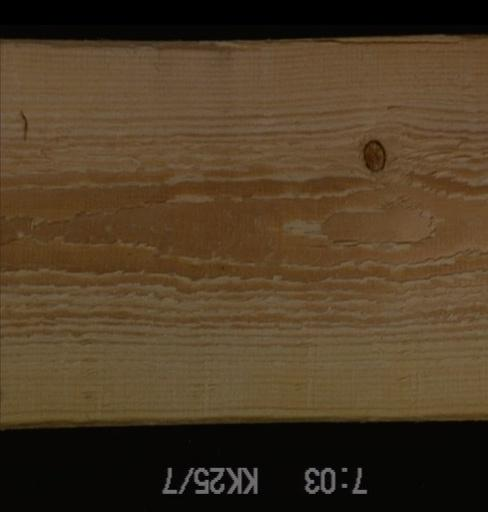wave: (174, 403, 484, 430), (3, 32, 243, 59)
